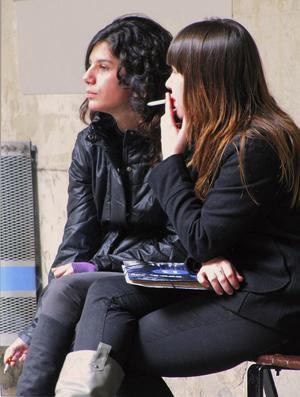person: (124, 18, 300, 395)
